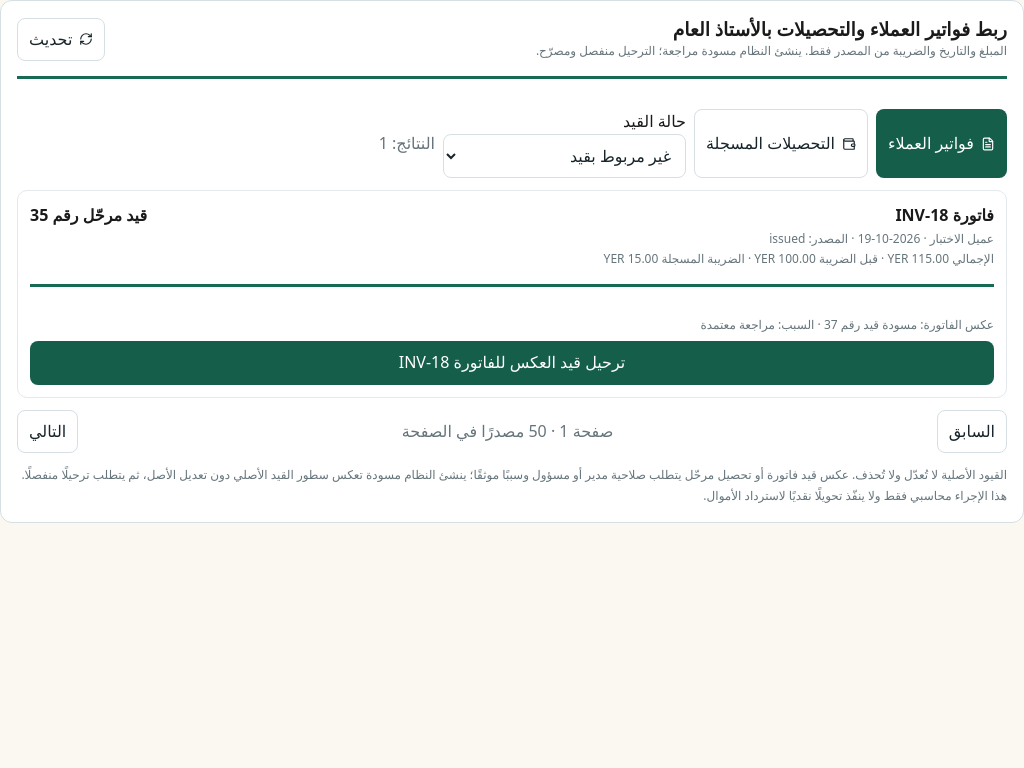
Test: invoice/payment journal source integration › lets a manager explicitly post a saved source reversal draft
This screenshot has width=1024, height=768.
Click the button "ترحيل قيد العكس للفاتورة INV-18" at (512, 363), box [30,341,994,385]
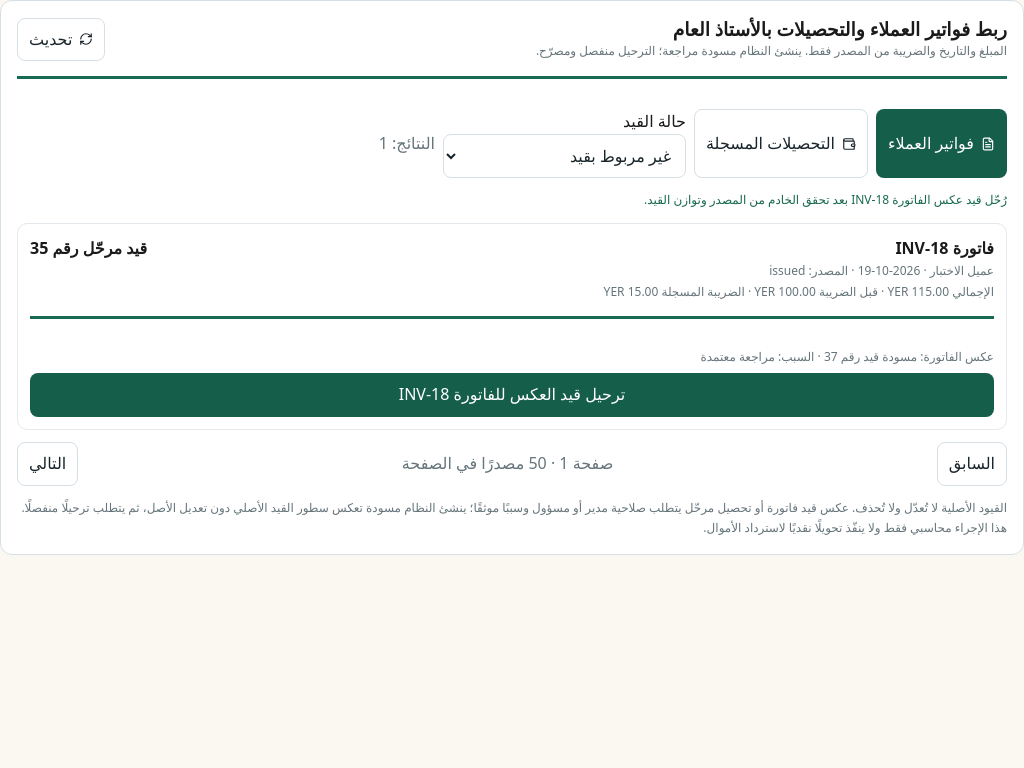
Now the text "رُحّل قيد عكس الفاتورة INV-18 بعد تحقق الخادم من المصدر وتوازن القيد." is shown, box [644,191,1007,208]
